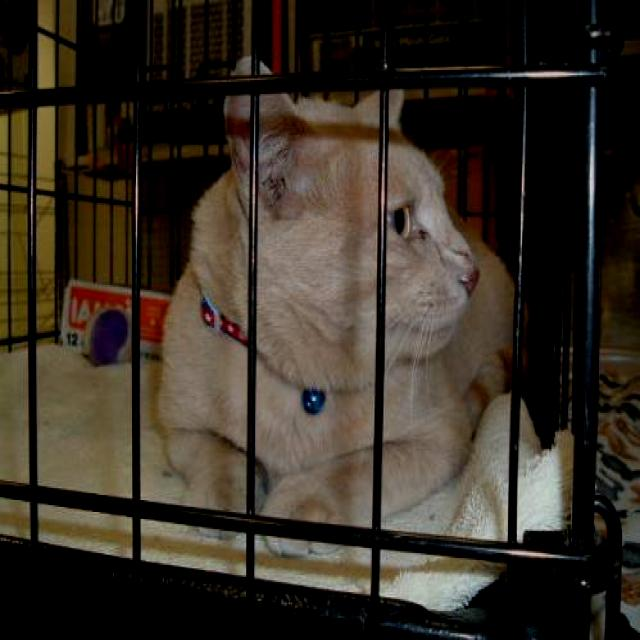Kucing: (178, 32, 553, 557)
